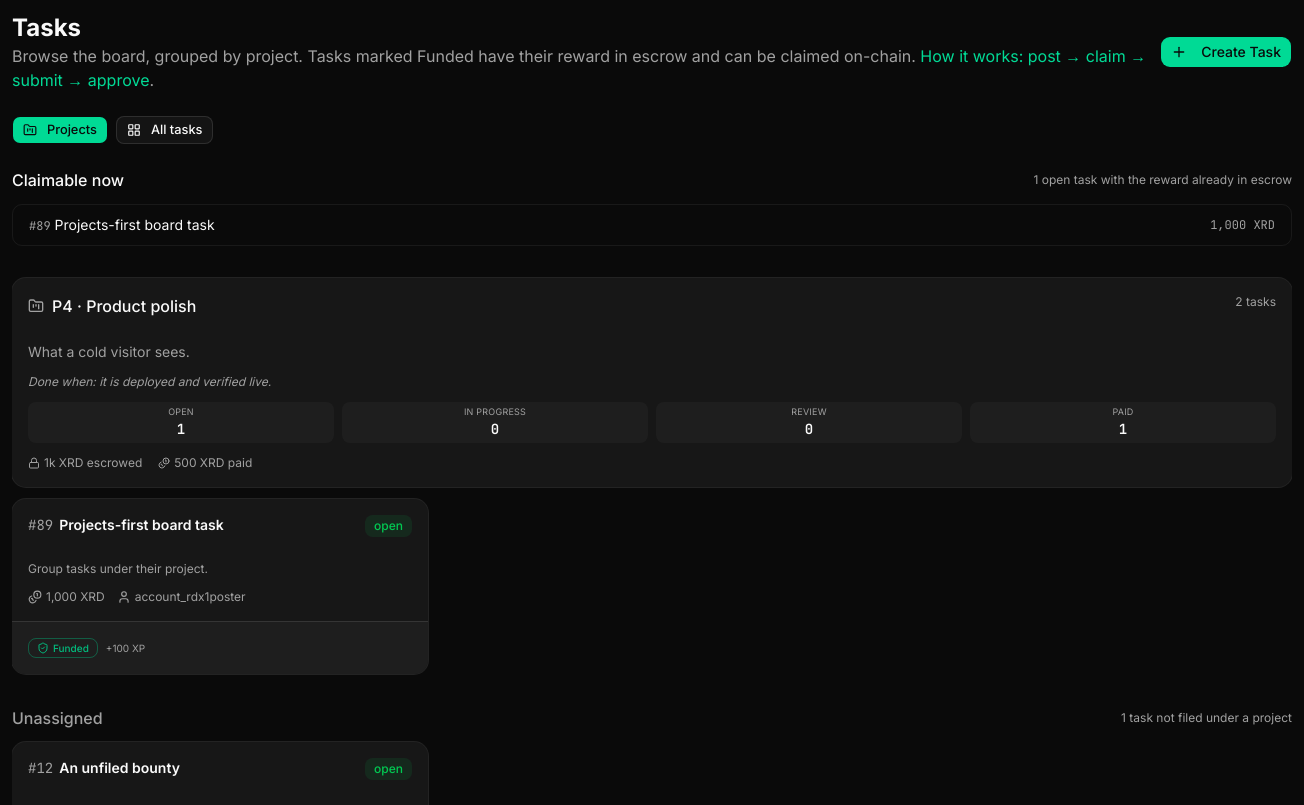
Scenario: /tasks projects-first board › switching to All tasks shows the flat grid with both tasks and the status filter
Click the button "All tasks" at (165, 130), box left=116, top=116, right=214, bottom=144
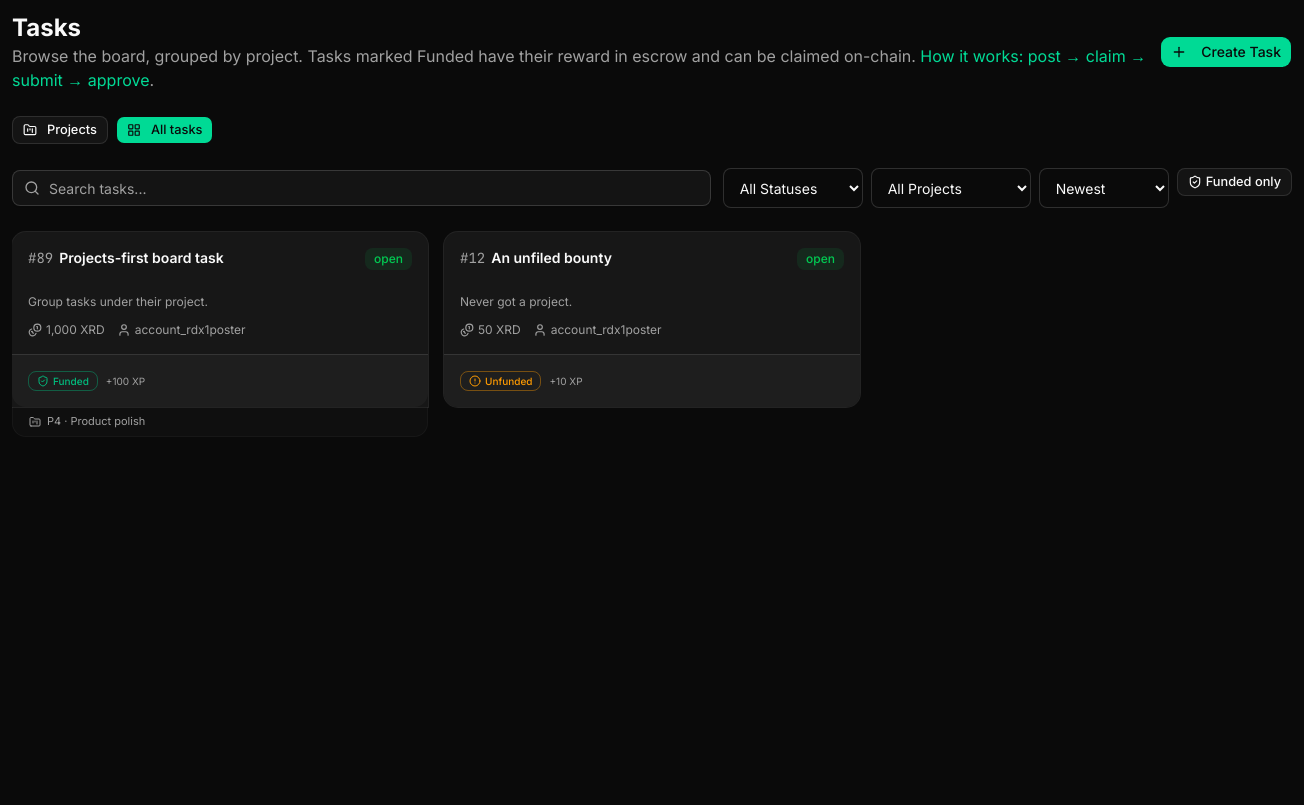
Expected: the heading "#89Projects-first board task" is shown, left=28, top=248, right=224, bottom=268
Expected: the field with placeholder "Search tasks..." is shown, left=12, top=170, right=711, bottom=206
